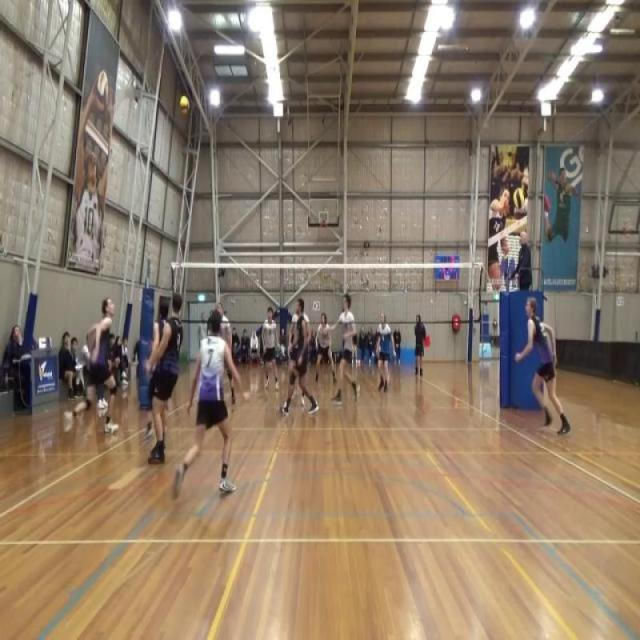volleyball: (96, 70, 109, 111), (178, 92, 191, 118), (512, 187, 526, 210)
